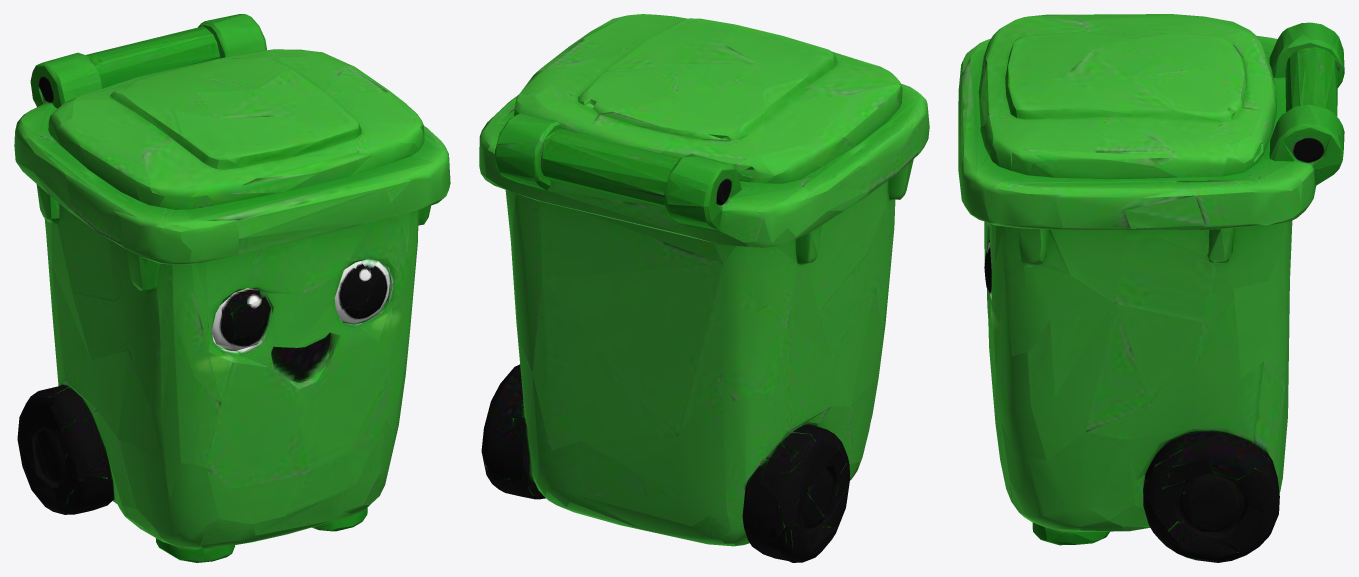
File: by-skrald.glb
3 renders of one model, left to right at view 1: azimuth 30°, elevation 25°; view 2: azimuth 150°, elevation 25°; view 3: azimuth 270°, elevation 25°, orthographic. The views are drawn at different scales.
Bounding box in the file's own units: 1.55 × 1.9 × 1.54.
1 material, 1 textured.
